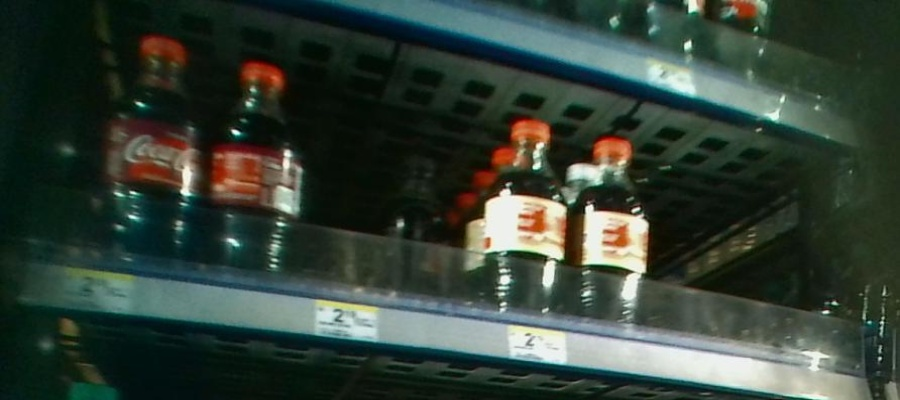bottle: (205, 51, 309, 292), (103, 32, 197, 283), (571, 120, 644, 352), (486, 115, 563, 327)
